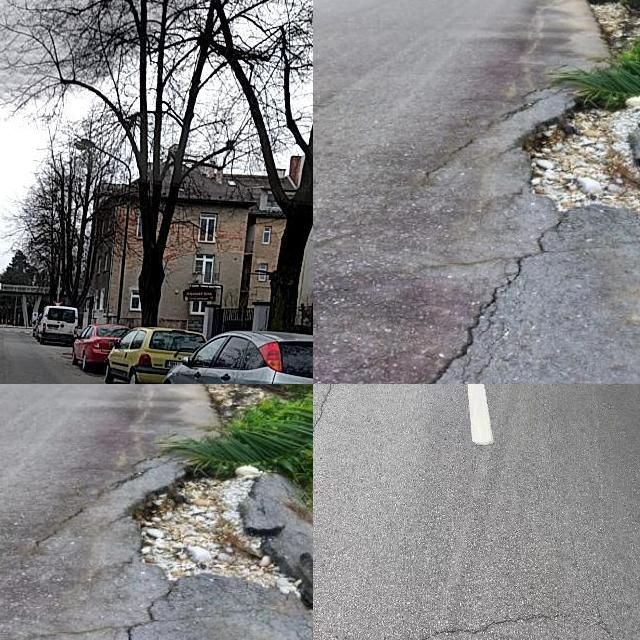Melintang: (313, 601, 594, 640)
Pinggir: (97, 406, 313, 640), (487, 37, 640, 272)
